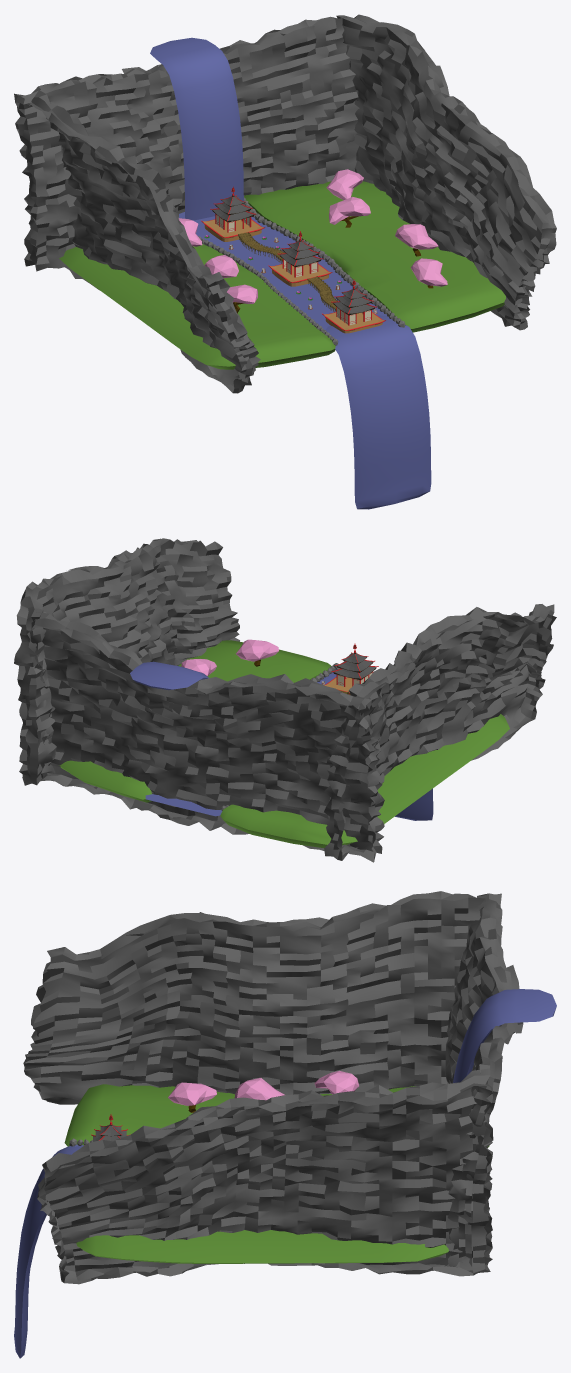
Rendered from scenevr.fbx.
3 views of the same model, one above another, from view 1: azimuth 30°, elevation 25°; view 2: azimuth 150°, elevation 25°; view 3: azimuth 270°, elevation 25° (orthographic). The views are drawn at different scales.
Visible parts, largest first — view 1: Cube.002, Cube.004, Cube.003, Plane.001, Plane.018, Plane, Plane.017, Plane.002, Cylinder.003, Cylinder.002, Cylinder.001, Icosphere.005 (+5 smaller); view 2: Cube.002, Cube.003, Cube.004, Plane, Plane.001, Plane.017, Cylinder.001, Plane.018, Vert.006, Plane.002, Vert.007; view 3: Cube.003, Cube.004, Cube.002, Plane.001, Plane, Plane.017, Plane.018, Vert.003, Vert.002, Vert.008.
Boxes of the visible parts, x1=… form: Cube.002: x1=14, y1=16, x2=359, y2=271; Cube.004: x1=336, y1=14, x2=556, y2=330; Cube.003: x1=27, y1=90, x2=260, y2=393; Plane.001: x1=244, y1=181, x2=505, y2=332; Plane.018: x1=325, y1=315, x2=431, y2=509; Plane: x1=59, y1=243, x2=335, y2=369; Plane.017: x1=150, y1=37, x2=243, y2=220; Plane.002: x1=179, y1=212, x2=407, y2=329; Cylinder.003: x1=201, y1=186, x2=265, y2=241; Cylinder.002: x1=268, y1=231, x2=332, y2=286; Cylinder.001: x1=322, y1=279, x2=385, y2=333; Icosphere.005: x1=243, y1=197, x2=405, y2=327; Cube.002: x1=27, y1=612, x2=384, y2=862; Cube.003: x1=324, y1=604, x2=556, y2=860; Cube.004: x1=14, y1=538, x2=239, y2=785; Plane: x1=220, y1=714, x2=509, y2=847; Plane.001: x1=59, y1=640, x2=331, y2=802; Plane.017: x1=130, y1=661, x2=208, y2=690; Cylinder.001: x1=324, y1=643, x2=378, y2=694; Plane.018: x1=323, y1=669, x2=433, y2=820; Vert.006: x1=236, y1=639, x2=278, y2=666; Plane.002: x1=145, y1=679, x2=326, y2=816; Vert.007: x1=181, y1=659, x2=216, y2=676; Cube.003: x1=23, y1=891, x2=485, y2=1104; Cube.004: x1=37, y1=1068, x2=493, y2=1284; Cube.002: x1=445, y1=893, x2=523, y2=1266; Plane.001: x1=76, y1=1230, x2=448, y2=1263; Plane: x1=64, y1=1084, x2=489, y2=1147; Plane.017: x1=453, y1=989, x2=556, y2=1082; Plane.018: x1=14, y1=1145, x2=83, y2=1358; Vert.003: x1=168, y1=1082, x2=216, y2=1112; Vert.002: x1=314, y1=1070, x2=358, y2=1094; Vert.008: x1=234, y1=1078, x2=284, y2=1100.
Bounding box in the file's own units: 60577 × 48994 × 67427.
